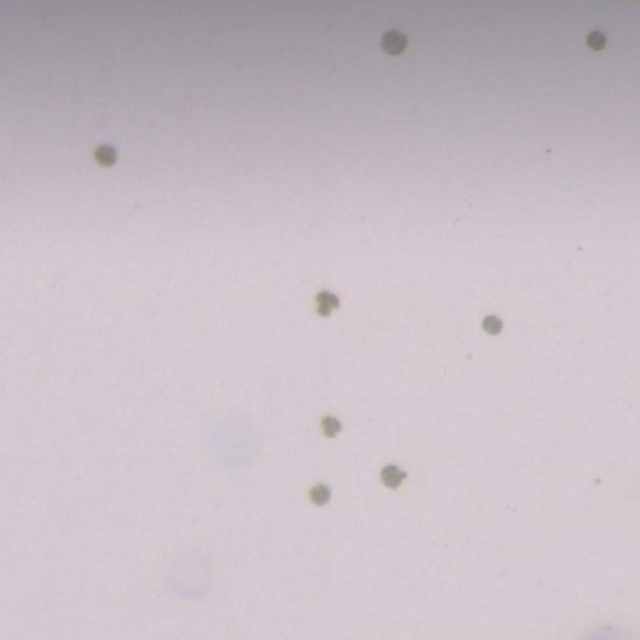non_viable: (380, 29, 407, 56), (380, 464, 406, 489), (315, 291, 339, 316), (94, 144, 116, 167), (321, 416, 341, 435), (310, 485, 329, 505), (482, 315, 501, 334), (585, 32, 605, 49)
